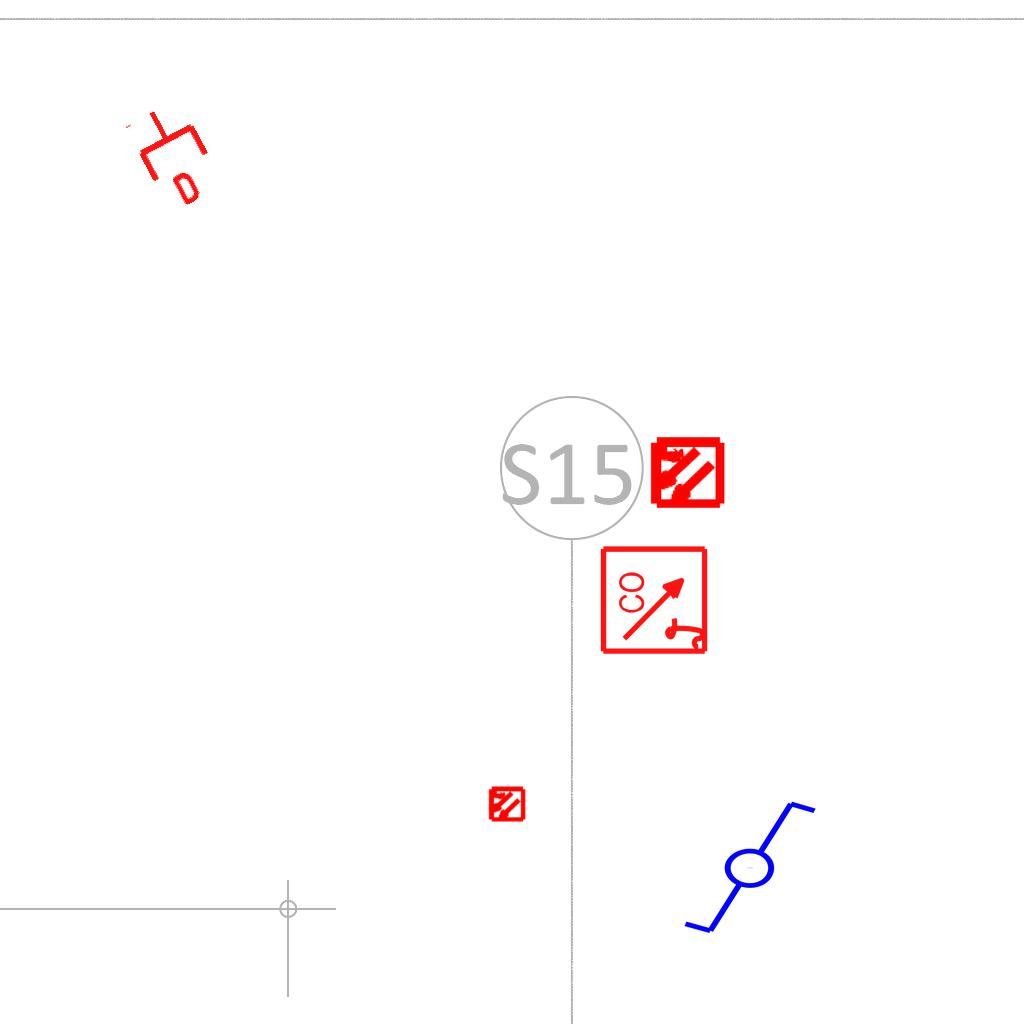Datenanschluss_einfach: (120, 94, 229, 216)
OT_Multisensormelder_(Kombination_RMO_WMD): (629, 416, 742, 529), (478, 776, 534, 832)
ROA_Rauchmelder_optisch_mit_Signalgeber_(Sockelsirene): (599, 543, 712, 656)
Wechselschalter: (663, 794, 820, 938)
